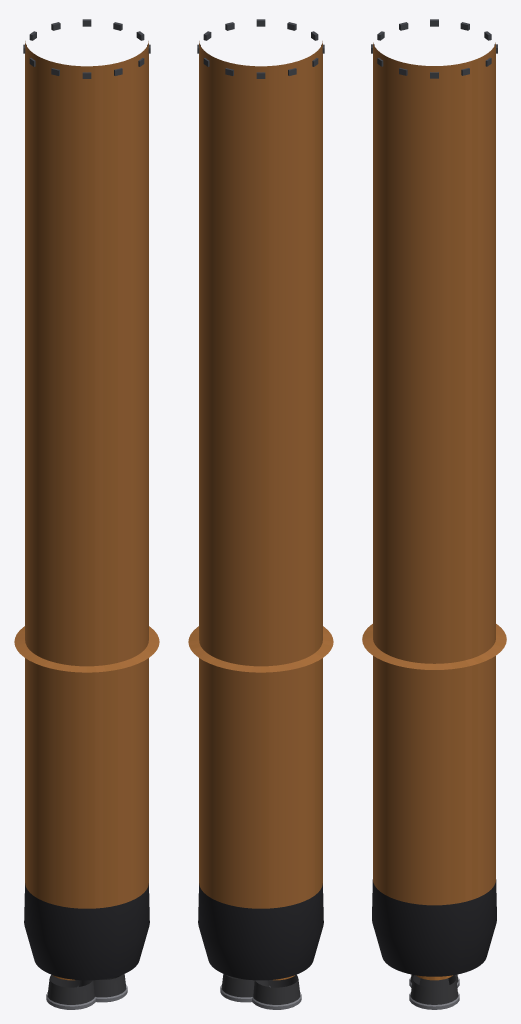
Rendered from ccb.hi.glb.
3 views of the same model, side by side, from view 1: azimuth 30°, elevation 25°; view 2: azimuth 150°, elevation 25°; view 3: azimuth 270°, elevation 25° (orthographic).
Visible parts, largest first — view 1: ccb.hull, ccb.dark, ccb.bell, ccb.metal; view 2: ccb.hull, ccb.dark, ccb.bell, ccb.metal; view 3: ccb.hull, ccb.dark, ccb.bell.
Part boxes in pixels (x1,y1,x2,y2): ccb.hull: (14,41,159,908); ccb.dark: (23,19,150,980); ccb.bell: (47,974,126,1004); ccb.metal: (46,985,127,1009); ccb.hull: (188,41,333,908); ccb.dark: (197,19,324,980); ccb.bell: (221,974,300,1004); ccb.metal: (220,985,301,1009); ccb.hull: (362,42,506,905); ccb.dark: (371,19,497,976); ccb.bell: (410,974,458,1004).
Size of the model in its own units: 4.48 by 32.53 by 4.48.
